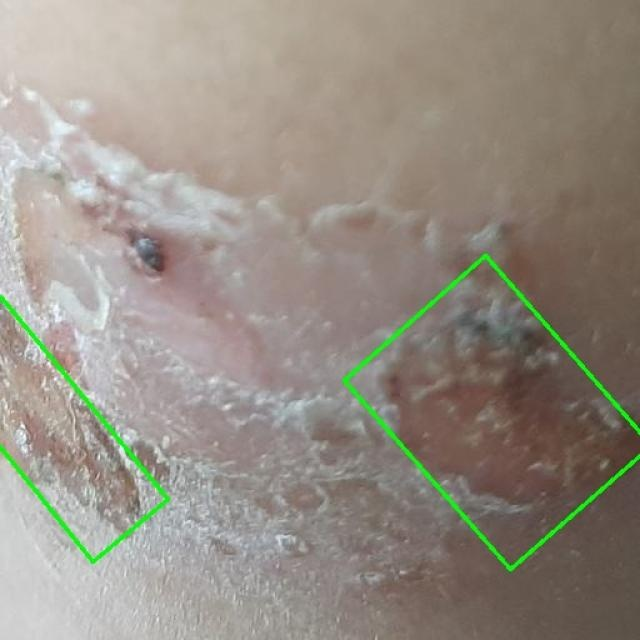Contact Dermatitis: (344, 256, 640, 570), (0, 269, 179, 562)
